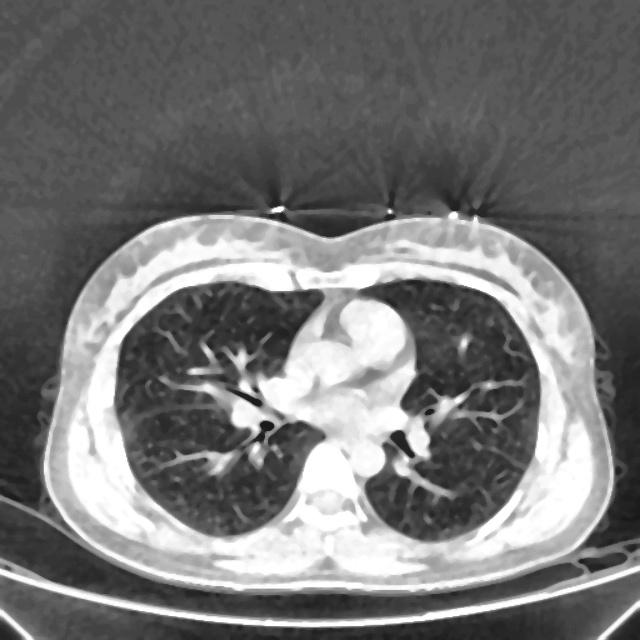covid: (41, 208, 616, 594)
